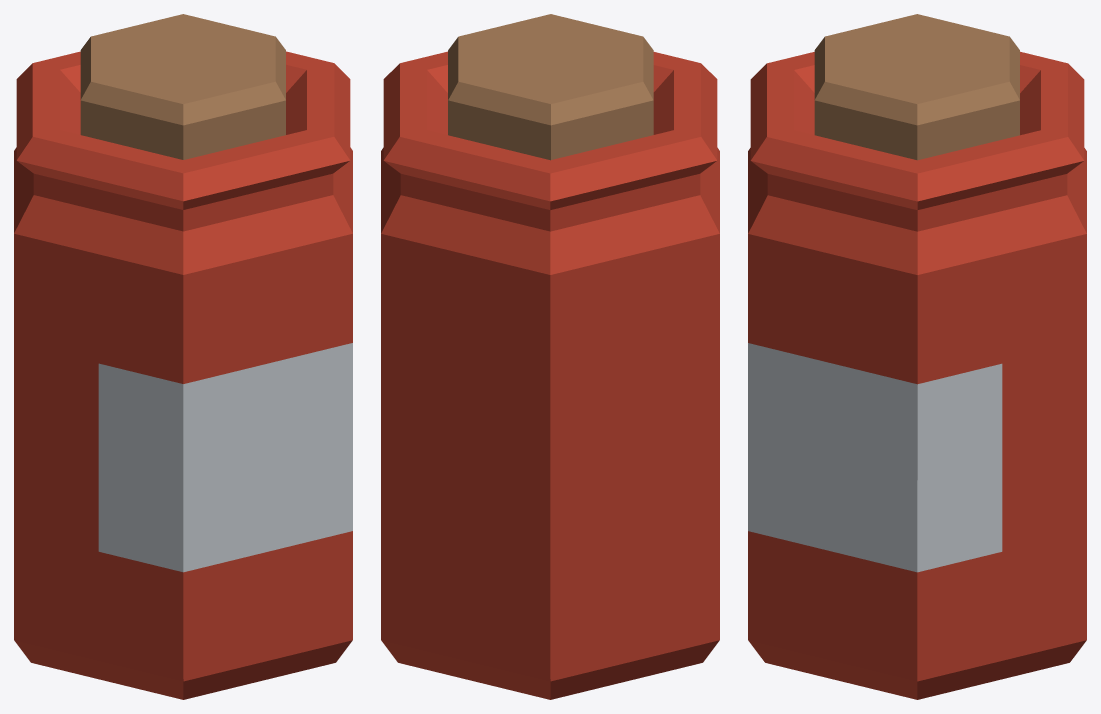
The model's file is Red_Potion_2.(Label).fbx.
The picture shows the model from 3 angles, left to right: view 1: azimuth 30°, elevation 25°; view 2: azimuth 150°, elevation 25°; view 3: azimuth 270°, elevation 25°; orthographic projection.
Parts seen in each view (by area): view 1: Red_Potion_2.(Label); view 2: Red_Potion_2.(Label); view 3: Red_Potion_2.(Label).
Boxes of the visible parts, box(x1,y1,x2,y2) form: Red_Potion_2.(Label): box(14, 14, 352, 699); Red_Potion_2.(Label): box(381, 14, 719, 699); Red_Potion_2.(Label): box(748, 14, 1086, 699).
Bounding box in the file's own units: 23.02 × 36.77 × 19.94.
